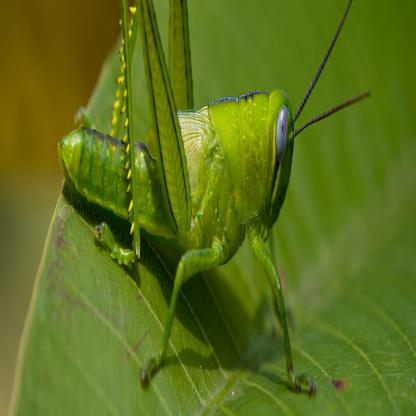grasshopper: (54, 0, 366, 404)
